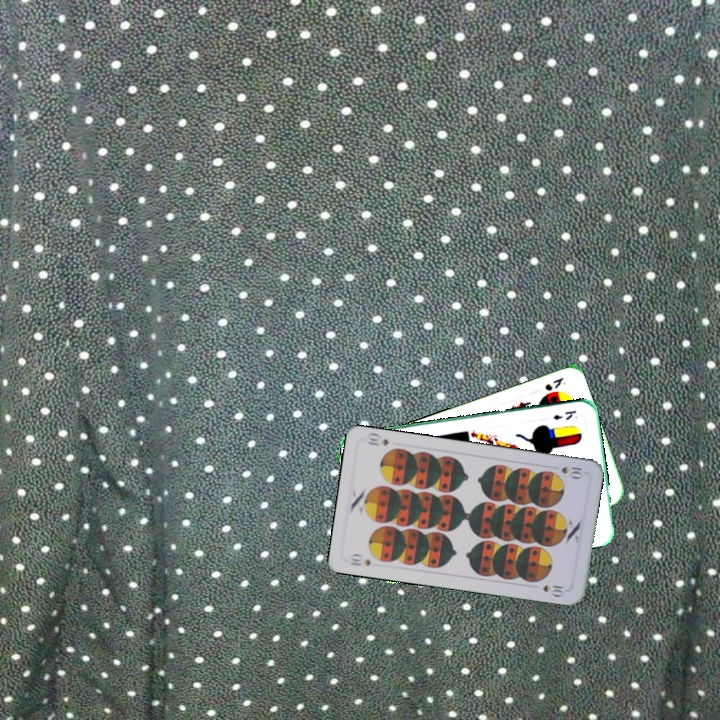EK: (549, 406, 579, 423)
S10: (558, 462, 585, 481), (346, 550, 373, 568)
SK: (541, 373, 568, 394)
